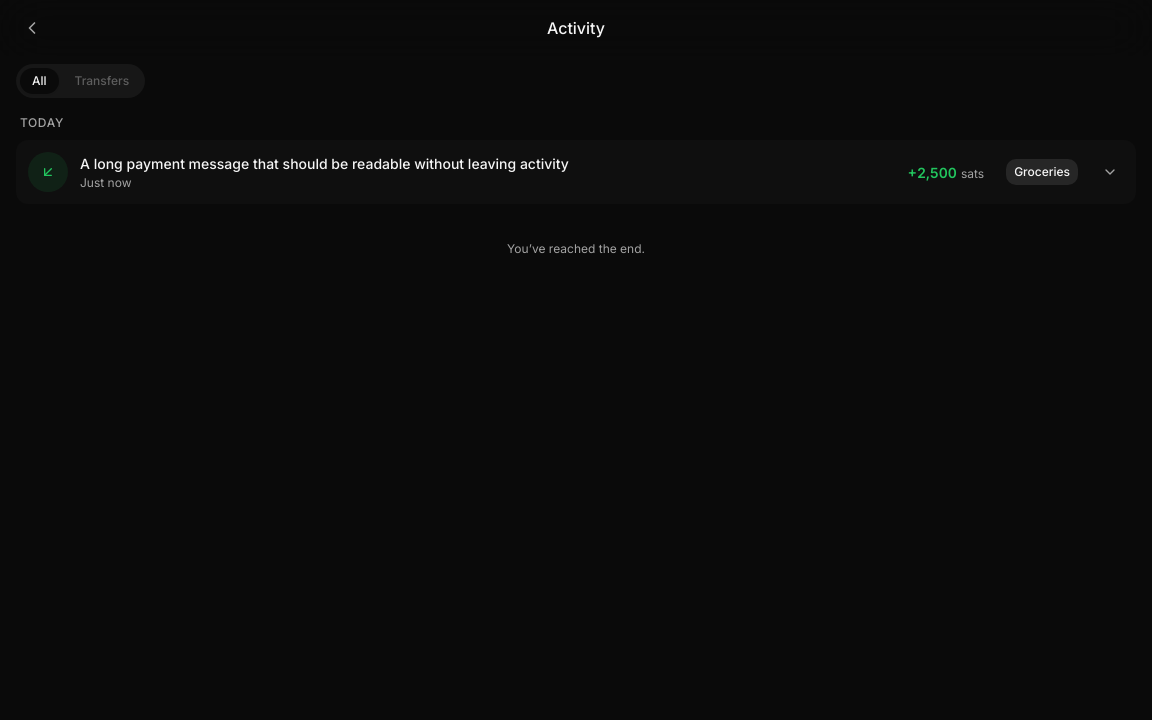
Test case: ActivityScreen quick transaction information › retains a new tag draft when saving fails, without claiming it was applied
The width and height of the screenshot is (1152, 720).
Click the button with aria-label "Choose tag": point(1042, 172) [1000,150,1084,194]
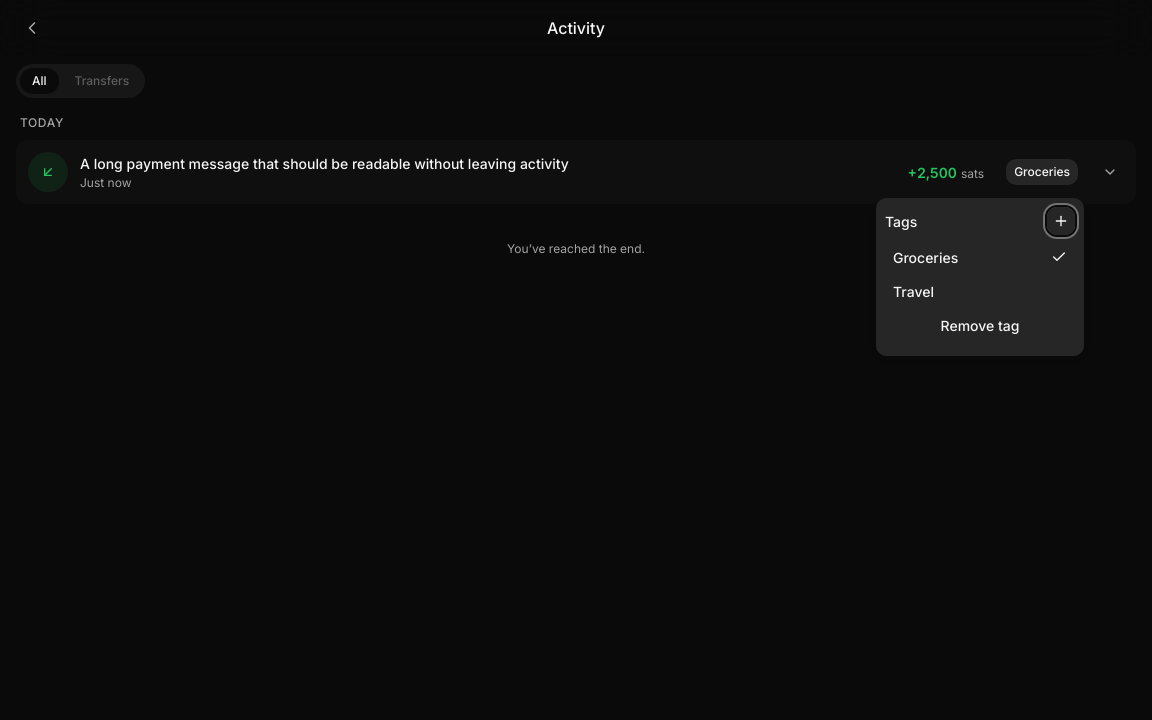
Click the button named "Add new tag": point(1061, 221) [1047,207,1075,235]
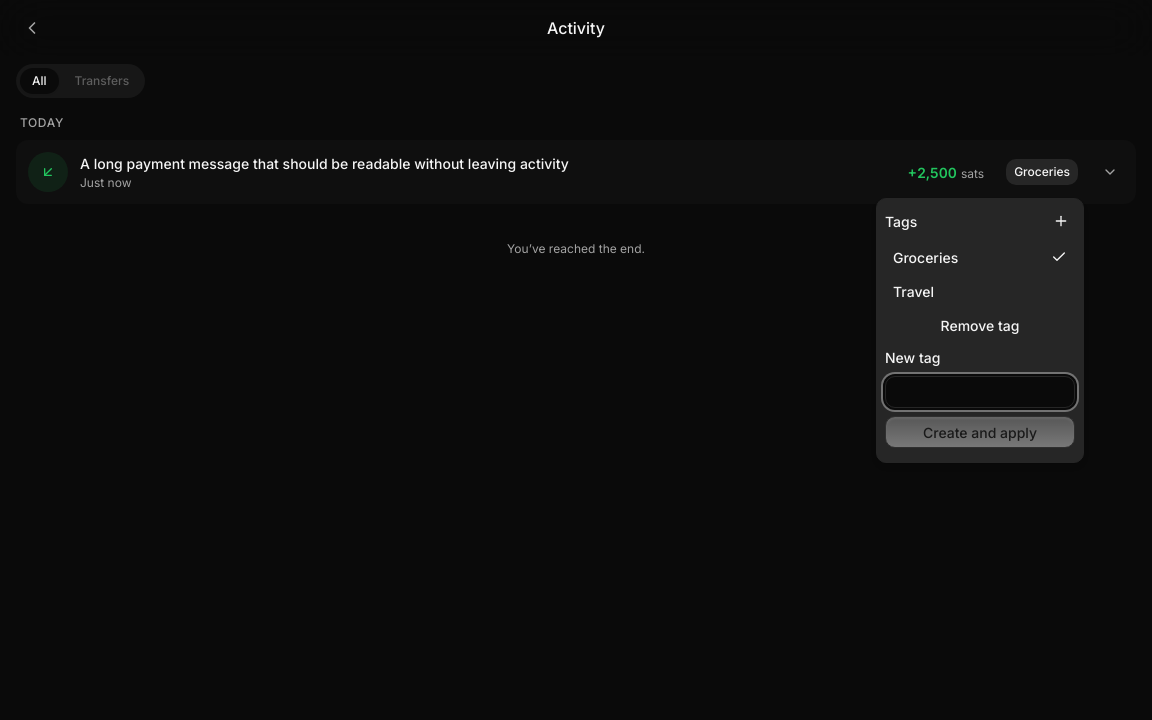
In the field labelled "New tag": point(980, 392) [885,376,1075,408], type "Books"
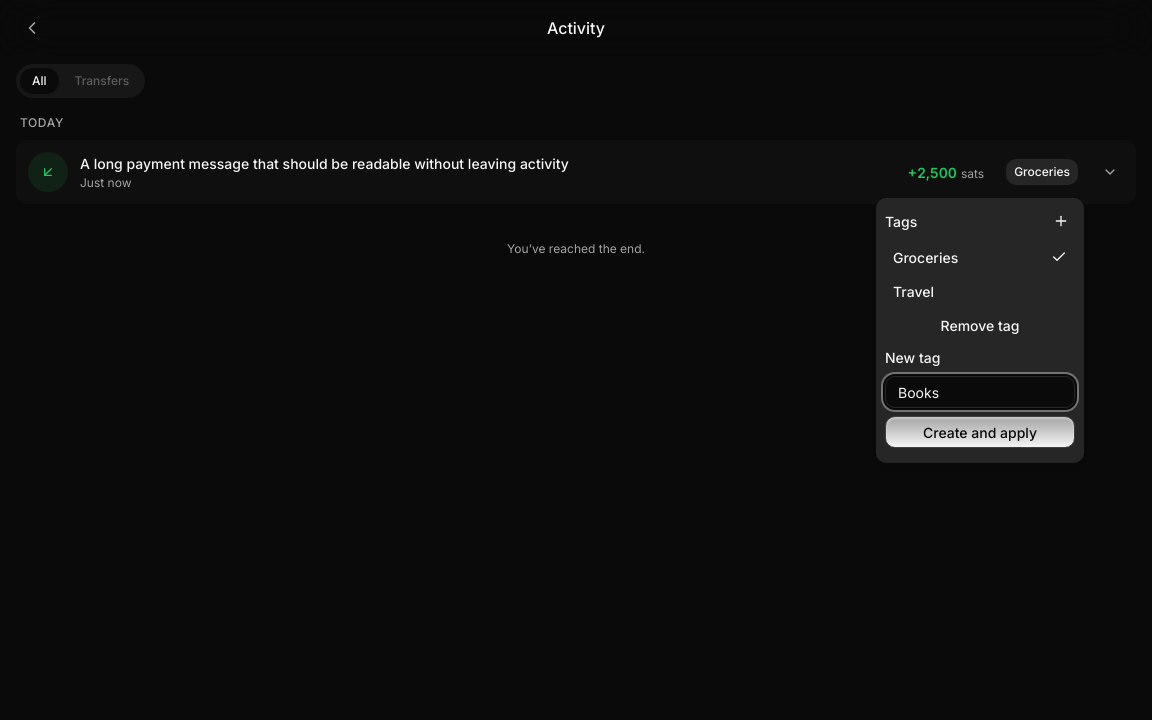
Click the button "Create and apply": point(980, 432) [885,416,1075,448]
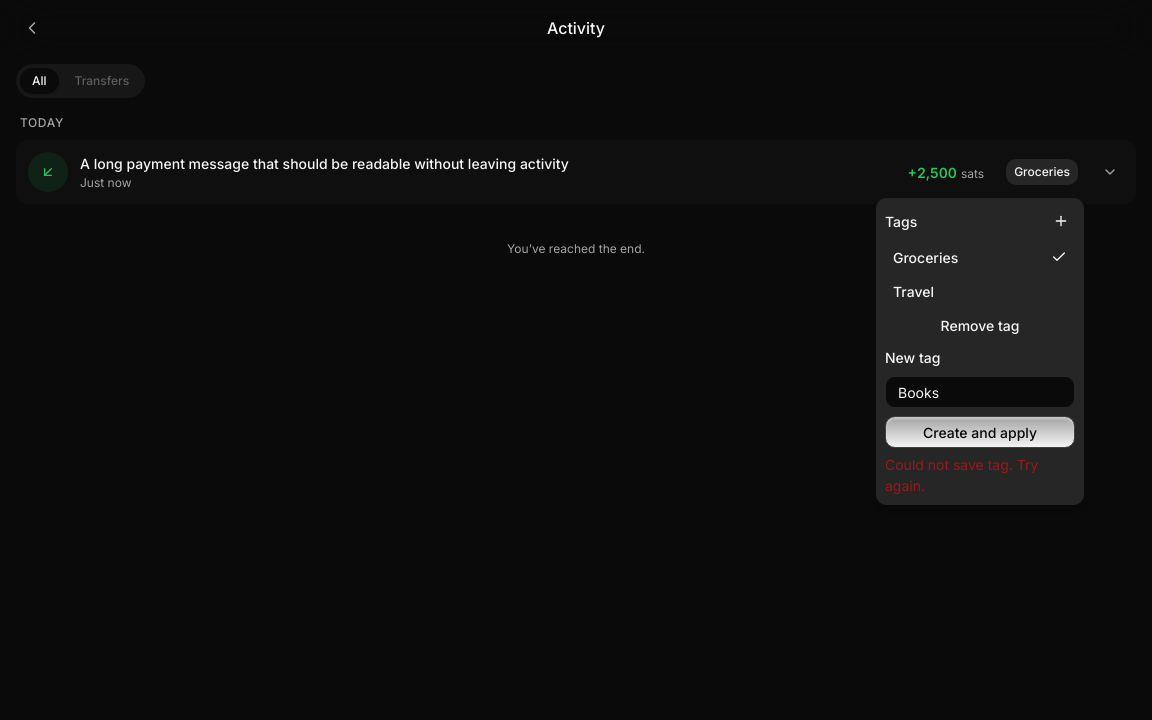
expect the button "Create and apply" is enabled: met, box [885,416,1075,448]
expect the message shows "Could not save tag": met, box [885,456,1038,494]
